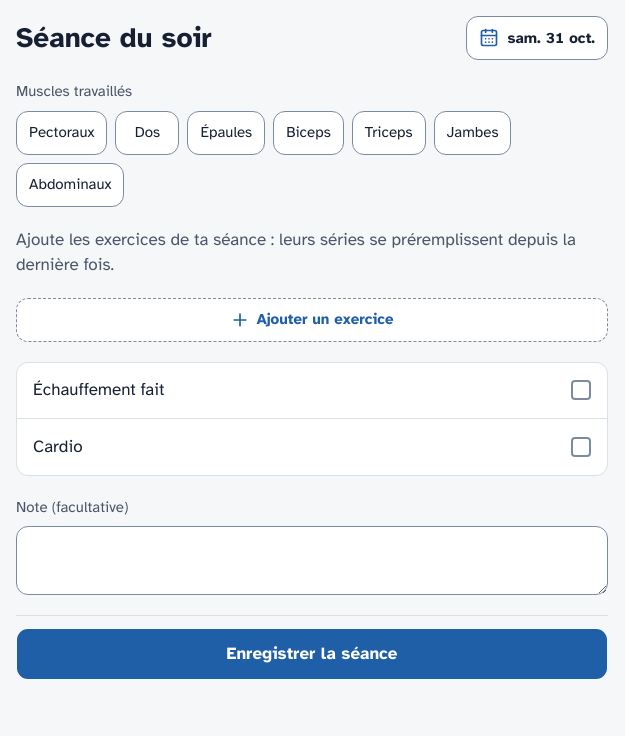
WorkoutEditor › « Créer un exercice » propose le premier muscle choisi
The width and height of the screenshot is (625, 736).
Click the button "Biceps": click(308, 132) left=273, top=110, right=344, bottom=154
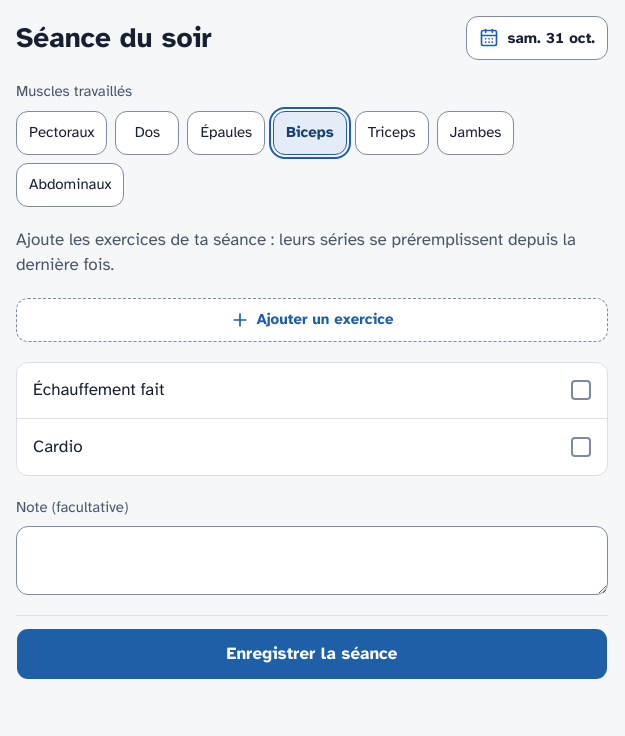
Click the button "Ajouter un exercice": click(312, 320) left=16, top=298, right=608, bottom=342
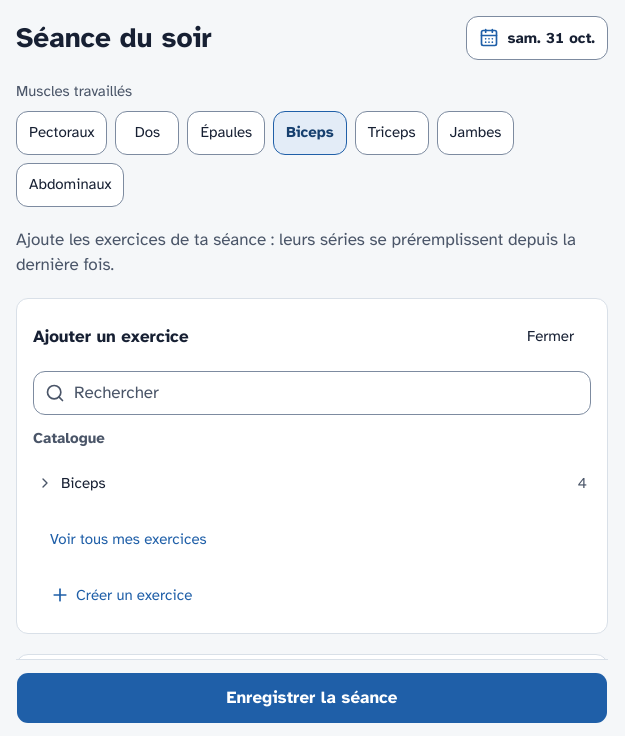
Click the button "Créer un exercice": click(121, 595) left=33, top=573, right=209, bottom=617
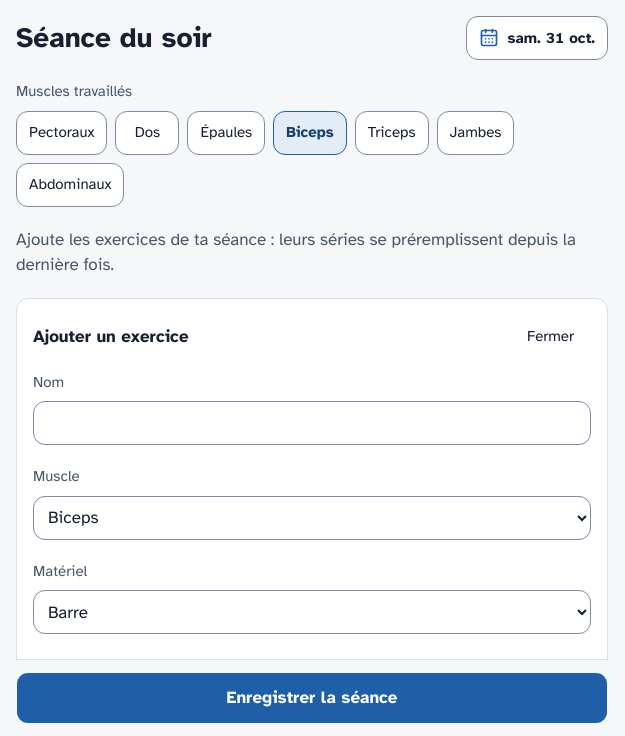
Check: the dropdown labelled "Muscle" shows "Biceps", box left=33, top=496, right=591, bottom=540
